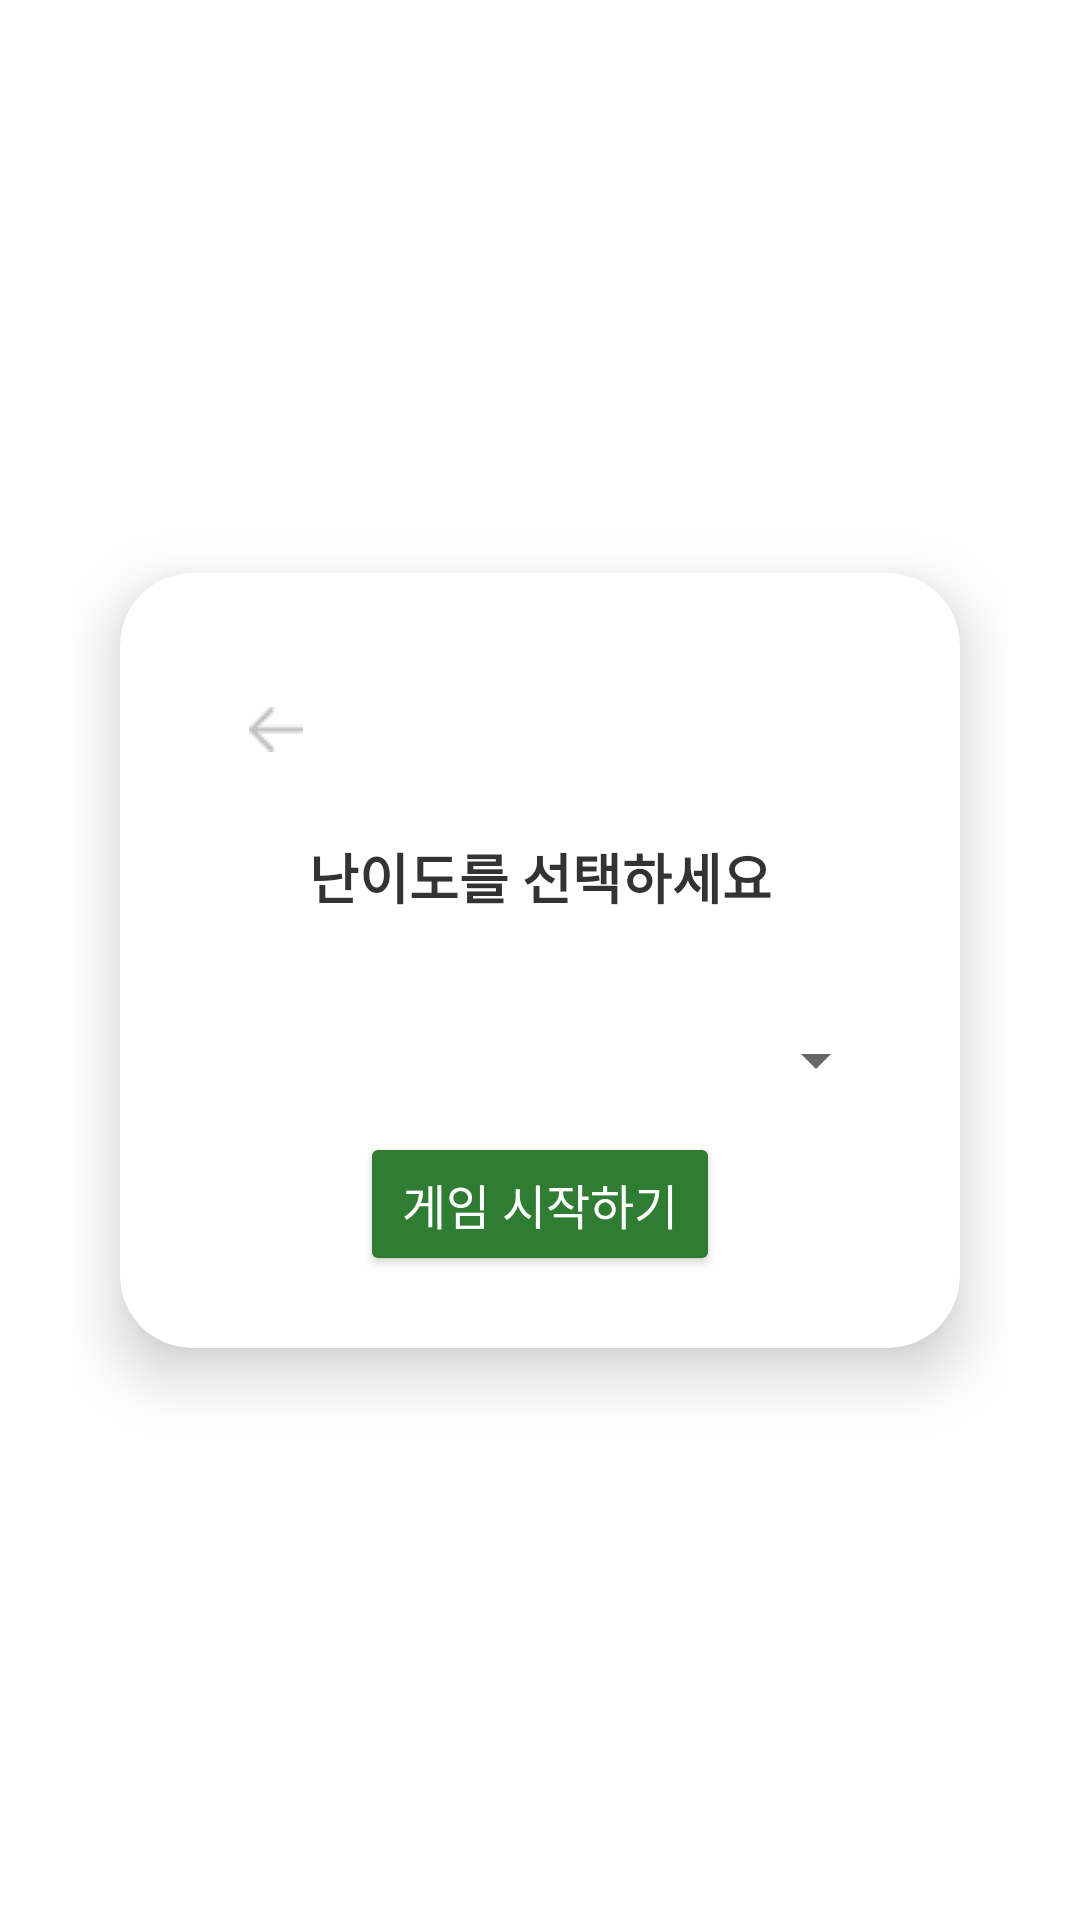

Where icons sit on this 1080px×1920px app screen, as (left=x1, top=y1, right=x2, bottom=y2):
뒤로가기: (left=249, top=707, right=303, bottom=752)
